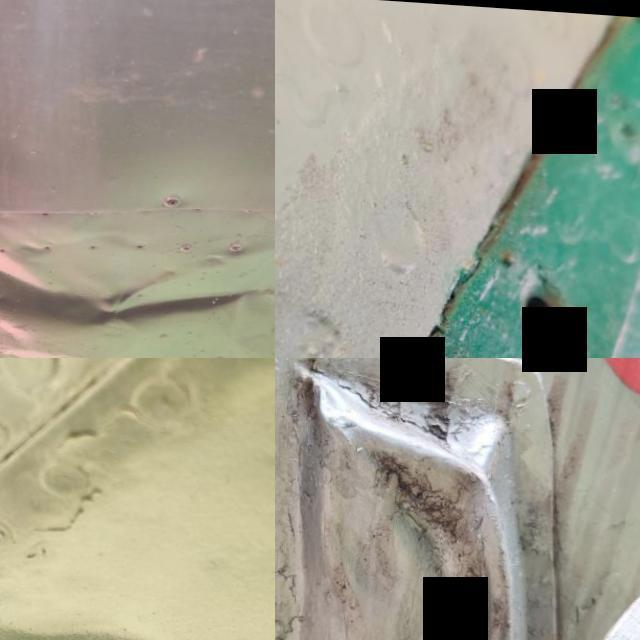Dent: (275, 358, 566, 640), (0, 138, 275, 358), (0, 566, 215, 640)
Missing_Fastener: (489, 241, 605, 358)
